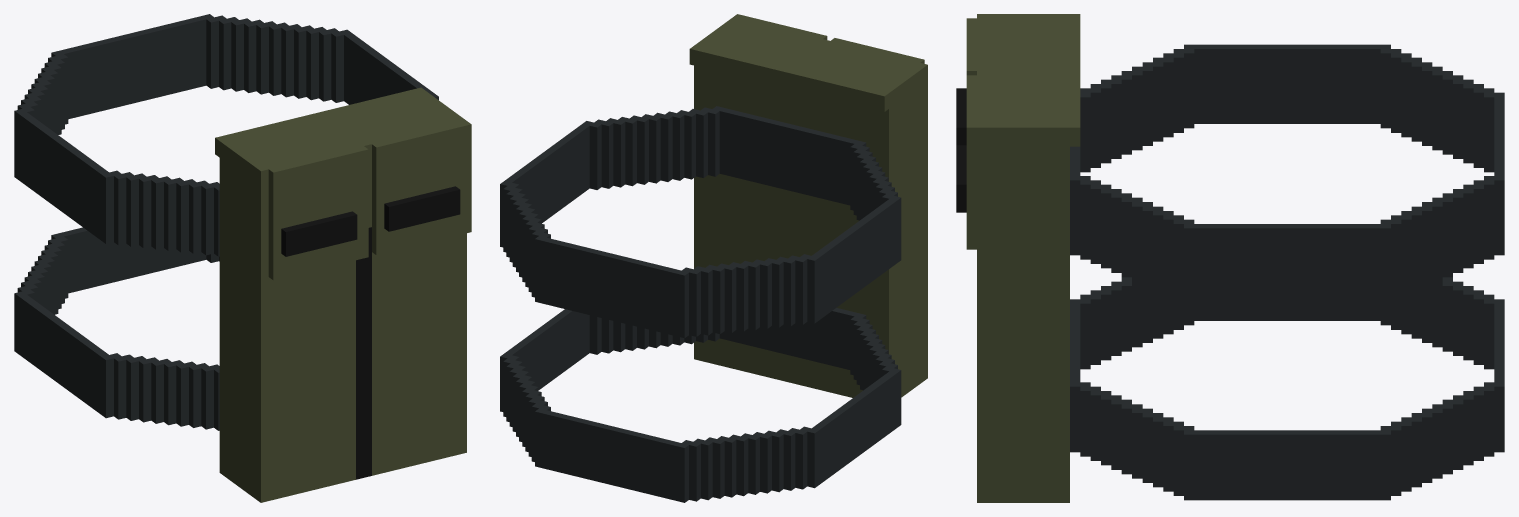
Rendered from legpouch_large.glb.
3 views of the same model, side by side, from view 1: azimuth 30°, elevation 25°; view 2: azimuth 150°, elevation 25°; view 3: azimuth 270°, elevation 25° (orthographic). The views are drawn at different scales.
Parts seen in each view (by area): view 1: legpouch_large:compound; view 2: legpouch_large:compound; view 3: legpouch_large:compound.
Part boxes in pixels (x1,y1,x2,y2): legpouch_large:compound: [14, 14, 471, 502]; legpouch_large:compound: [500, 14, 927, 502]; legpouch_large:compound: [956, 14, 1504, 502].
Size of the model in its own units: 0.168 by 0.16 by 0.212.
